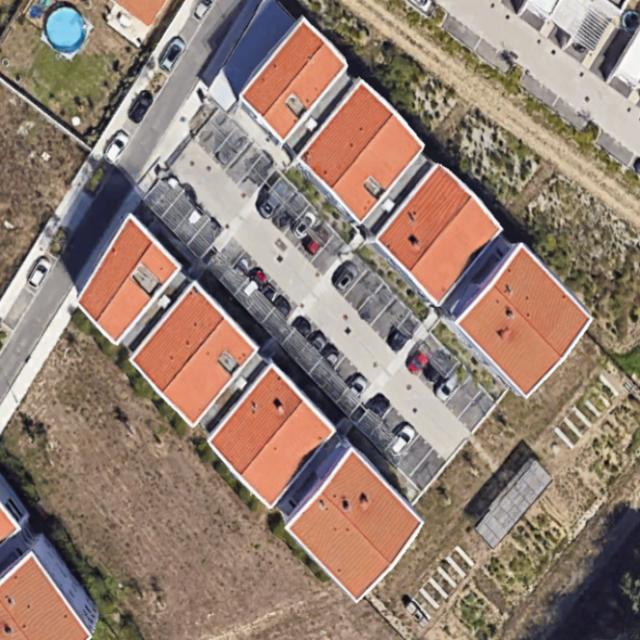immeuble: (435, 232, 600, 397), (269, 437, 433, 602), (287, 79, 431, 224), (199, 362, 342, 508), (121, 281, 264, 426), (367, 163, 506, 305), (60, 215, 186, 344), (229, 17, 353, 144)
